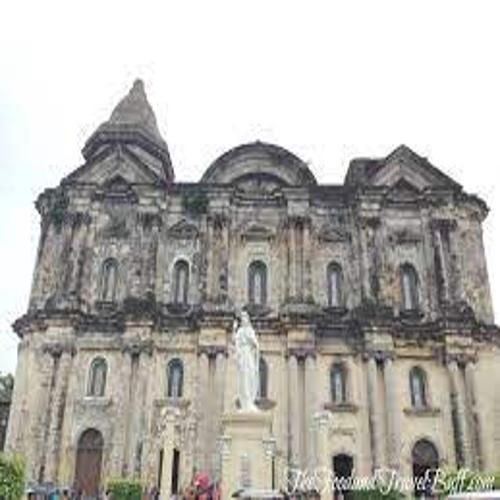Taal Basilica Church: (13, 69, 500, 495)
